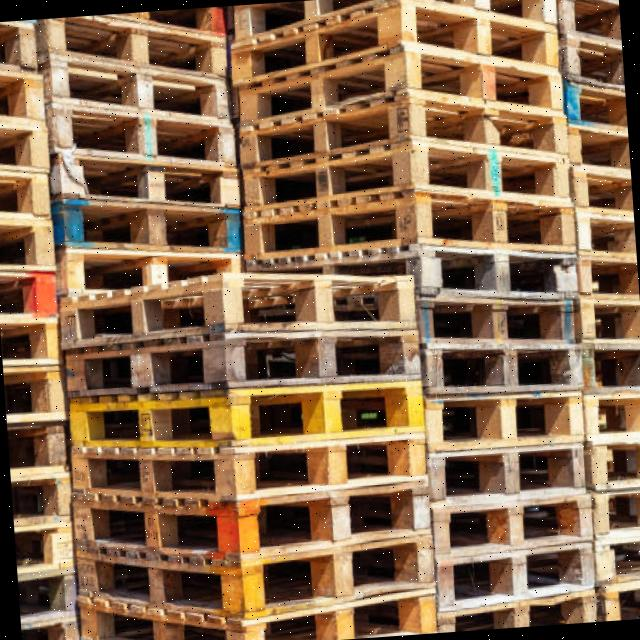Wooden-Pallets: (0, 0, 640, 640), (69, 521, 444, 617), (64, 420, 435, 509), (64, 479, 436, 565), (236, 44, 568, 136), (234, 87, 568, 173), (64, 322, 422, 397), (236, 182, 579, 260), (54, 274, 420, 339), (41, 101, 250, 176), (44, 48, 234, 125), (51, 190, 252, 262), (49, 144, 243, 214), (427, 436, 591, 512), (436, 541, 601, 614), (421, 332, 584, 397), (416, 245, 586, 303)
